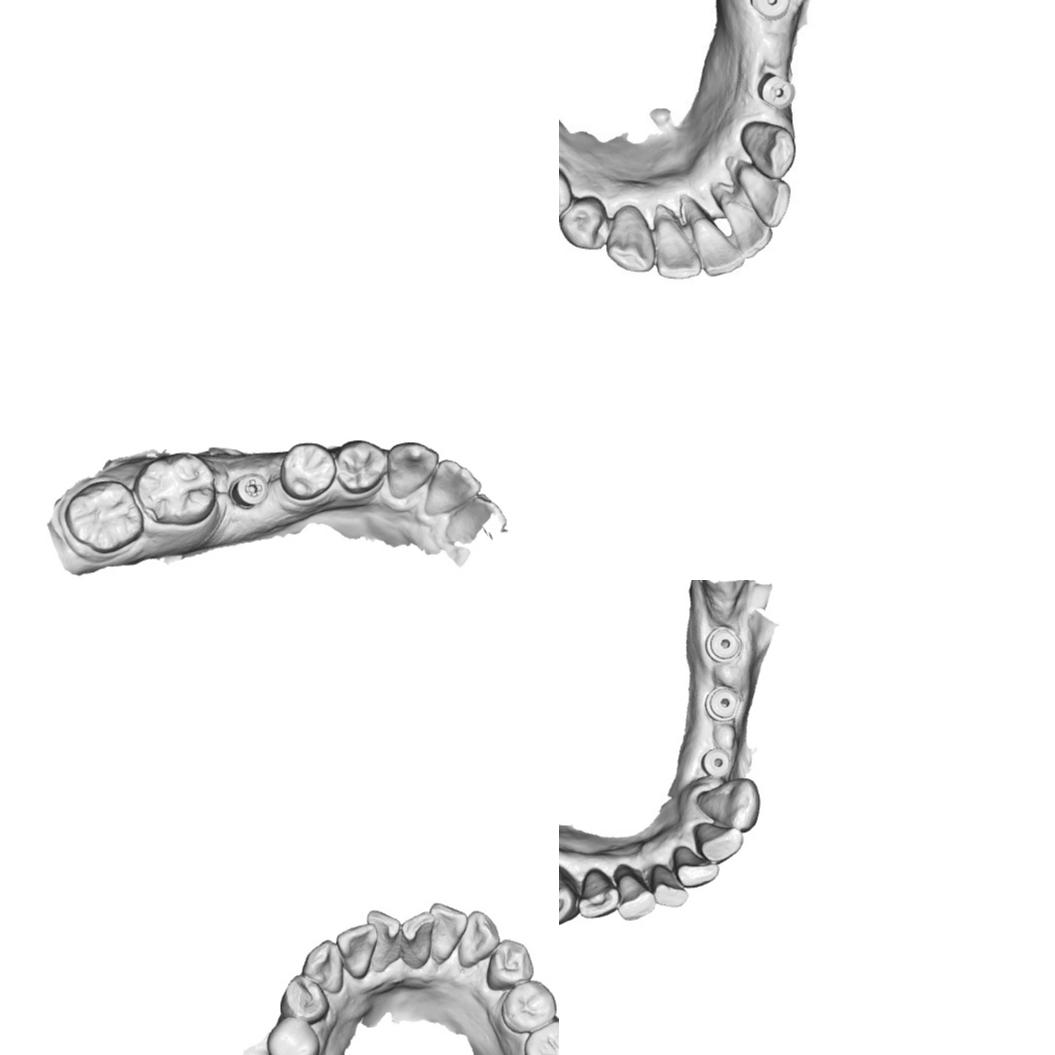canine: (694, 776, 763, 832), (383, 438, 440, 501), (741, 120, 798, 176), (605, 210, 655, 273), (457, 908, 501, 970), (300, 939, 344, 994), (559, 861, 580, 928)
implant: (705, 621, 745, 664), (705, 684, 745, 720), (700, 746, 736, 783), (746, 0, 792, 18)
implant_plus: (754, 70, 798, 110), (231, 469, 269, 510)
incisor: (718, 191, 775, 258), (690, 207, 745, 275), (421, 457, 481, 518), (737, 165, 792, 230), (654, 204, 697, 280), (670, 839, 721, 889), (429, 902, 469, 965), (616, 864, 658, 924), (335, 922, 378, 980), (577, 866, 623, 920), (365, 909, 401, 973), (693, 821, 744, 865), (398, 911, 436, 968), (647, 858, 689, 908)
molar: (133, 451, 218, 525), (62, 479, 145, 554), (522, 1018, 559, 1055)
premolar: (276, 439, 338, 503), (500, 978, 558, 1034), (335, 434, 386, 497), (560, 195, 609, 252), (484, 938, 534, 992), (279, 974, 330, 1024), (265, 1015, 320, 1055), (559, 169, 569, 221)
